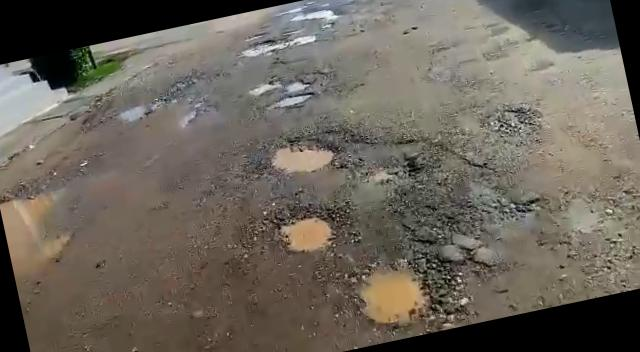pothole: (348, 252, 446, 332), (260, 126, 350, 184), (271, 202, 343, 258), (234, 26, 315, 60), (248, 72, 318, 100), (264, 88, 315, 112)
